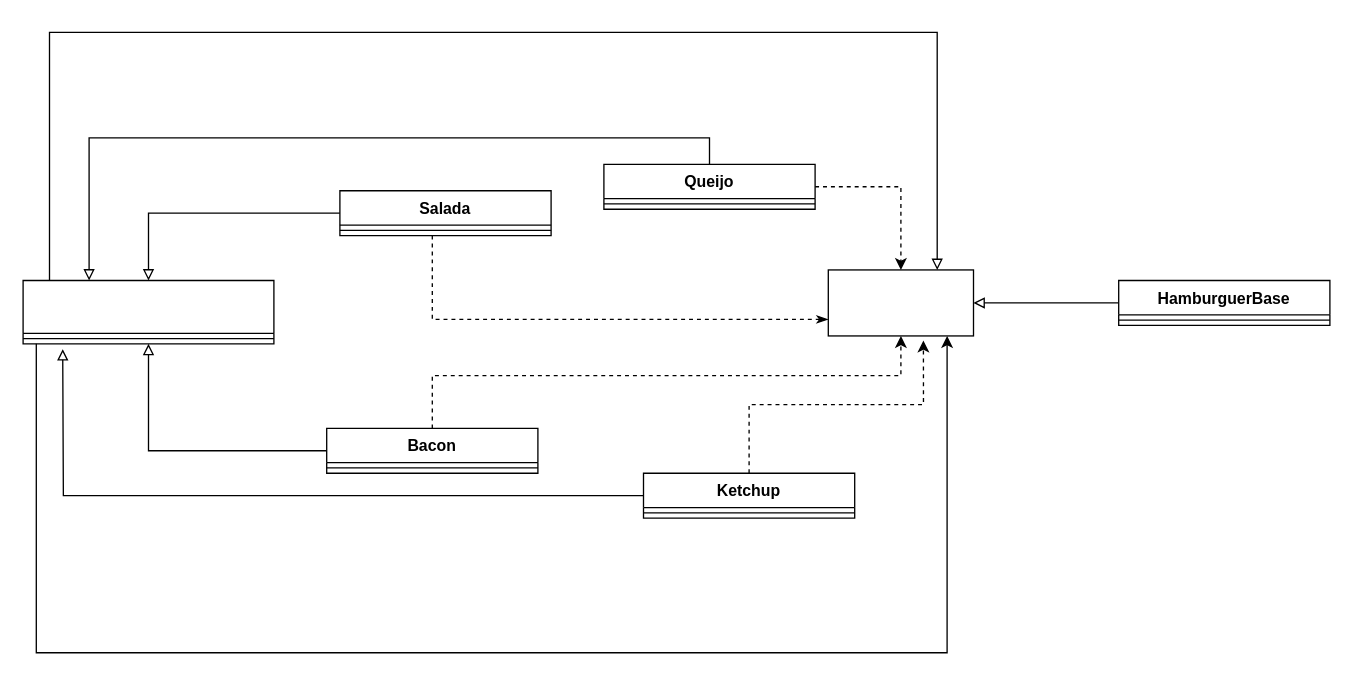
Image size: 1353x686. Some labels were removed from this diagram. Here are the shapes that lost their labels. From the top down, the centre of each, then its label:
At point (148, 311): "<<abstract>> Hamburguer Decorator".
At point (900, 302): "«interface» Ingrediente".
